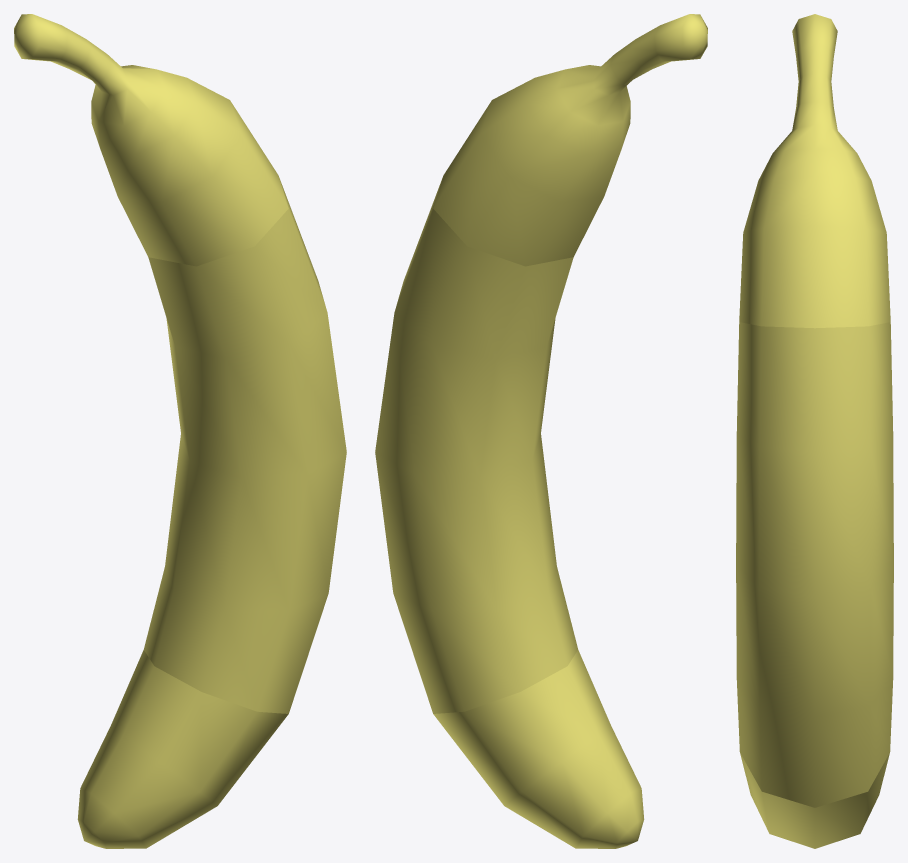
Rendered from banana.glb.
The picture shows the model from 3 angles, left to right: view 1: azimuth 30°, elevation 25°; view 2: azimuth 150°, elevation 25°; view 3: azimuth 270°, elevation 25°; orthographic projection. The views are drawn at different scales.
Parts seen in each view (by area): view 1: banana; view 2: banana; view 3: banana.
Part boxes in pixels (x1,y1,x2,y2): banana: [14, 14, 346, 848]; banana: [375, 14, 707, 848]; banana: [736, 14, 893, 848].
Bounding box in the file's own units: 0.1159 × 0.294 × 0.0537.
